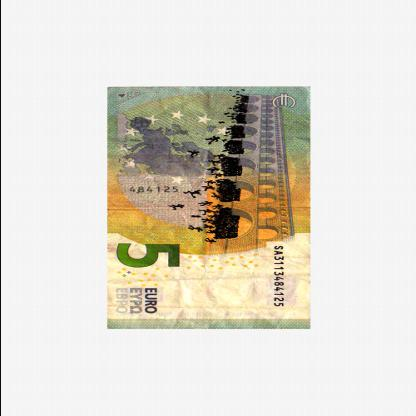euro_banknote: (88, 107, 332, 311)
